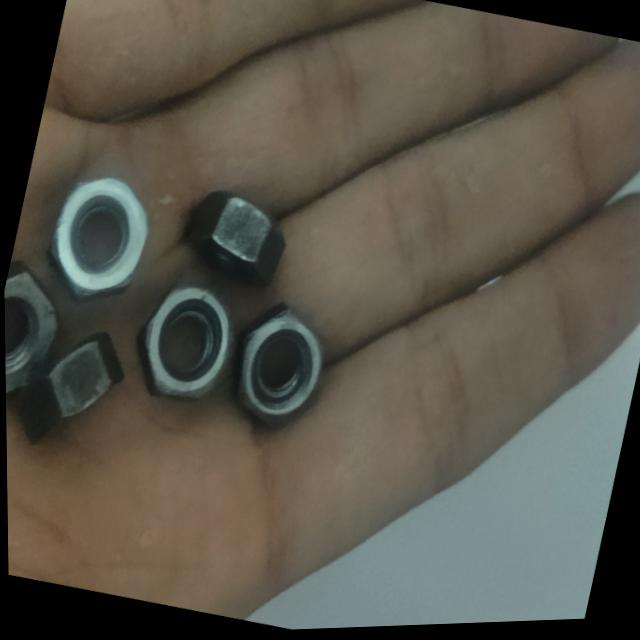disinfected nut: (48, 177, 146, 299), (17, 333, 121, 443), (136, 286, 230, 400), (234, 308, 320, 430), (185, 192, 282, 287), (3, 261, 55, 392)
